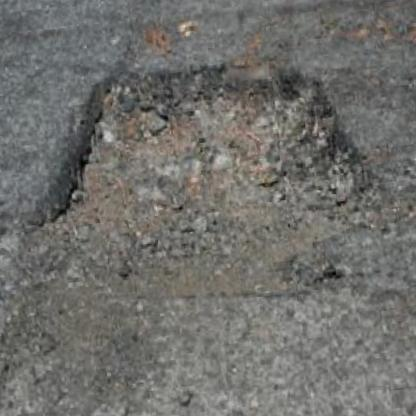pothole: (14, 30, 387, 323)
